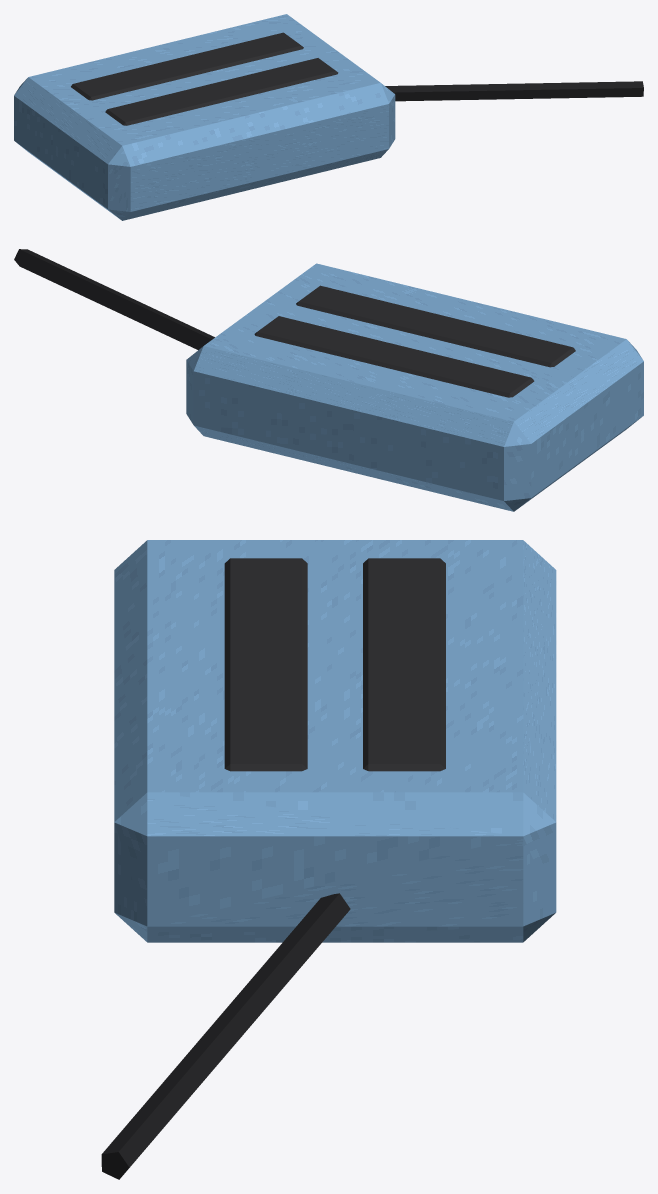
The model's file is battery_charger.glb.
3 renders of one model, top to bottom at view 1: azimuth 30°, elevation 25°; view 2: azimuth 150°, elevation 25°; view 3: azimuth 270°, elevation 25°, orthographic. The views are drawn at different scales.
Visible parts, largest first — view 1: block_body, block_bay-0.02, block_bay0.005, block_cord; view 2: block_body, block_bay-0.02, block_bay0.005, block_cord; view 3: block_body, block_bay0.005, block_bay-0.02, block_cord.
Boxes of the visible parts, left/top/right/bottom form: block_body: left=14, top=14, right=395, bottom=220; block_bay-0.02: left=71, top=32, right=303, bottom=100; block_bay0.005: left=105, top=58, right=338, bottom=125; block_cord: left=385, top=81, right=643, bottom=101; block_body: left=186, top=263, right=643, bottom=511; block_bay-0.02: left=254, top=316, right=534, bottom=397; block_bay0.005: left=296, top=285, right=575, bottom=367; block_cord: left=14, top=249, right=214, bottom=349; block_body: left=114, top=540, right=556, bottom=942; block_bay0.005: left=224, top=558, right=307, bottom=771; block_bay-0.02: left=363, top=558, right=445, bottom=771; block_cord: left=101, top=893, right=350, bottom=1179.
Bounding box in the file's own units: 0.2211 × 0.031 × 0.0823.
1 material, 1 textured.
